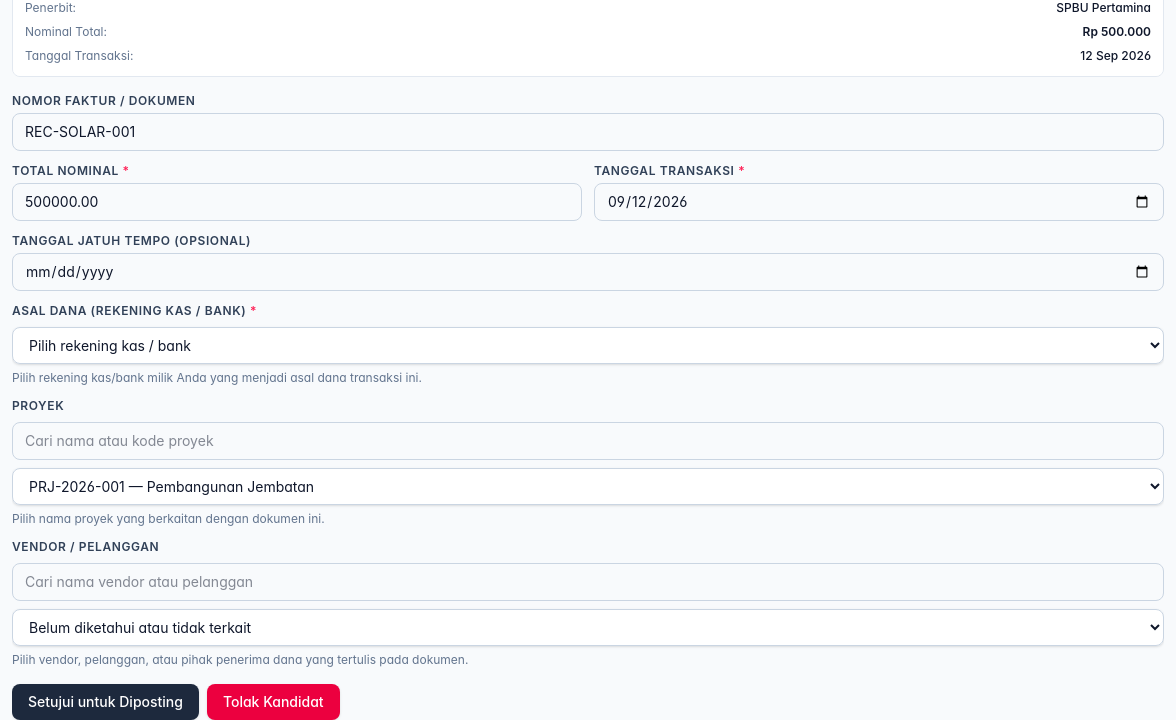
Test: Document Review Approval Workflow & Invariants › DocumentReviewForm Component Interactions › blocks approval and displays friendly error when payment account is missing on DIRECT_PURCHASE
(page scrolled)
Click the button "Setujui untuk Diposting". click: click(105, 702)
box: x1=12 y1=684 x2=199 y2=719
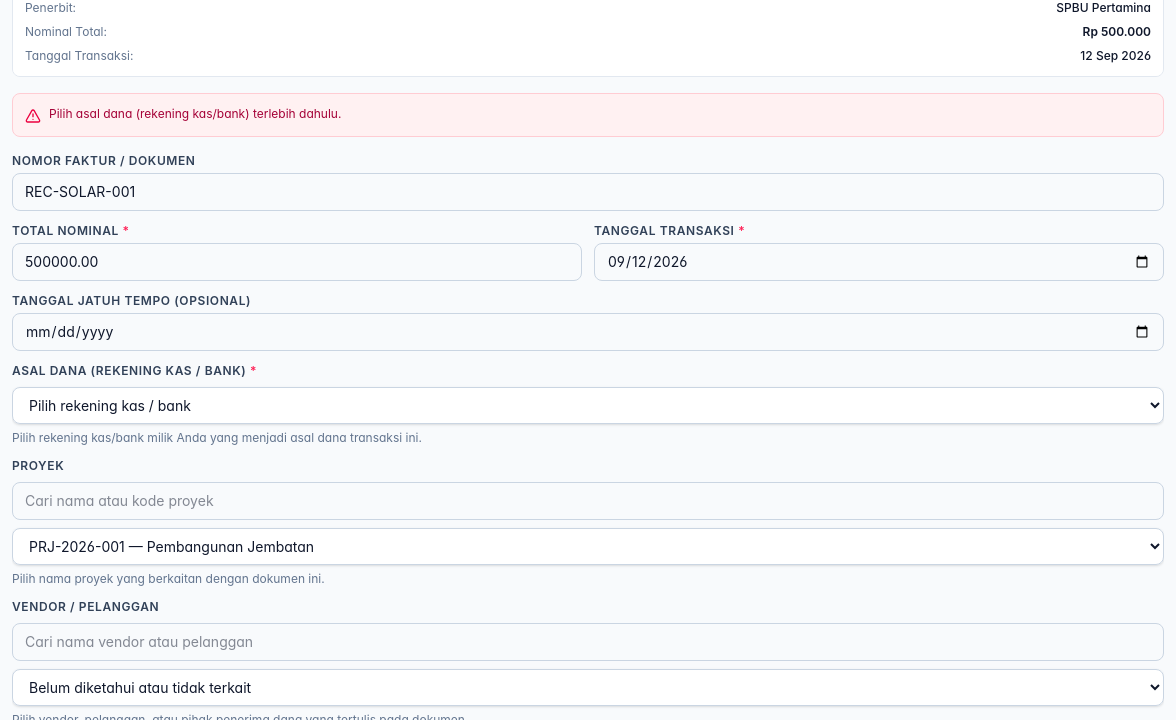
Check: the text "Pilih asal dana (rekening kas/bank) terlebih dahulu." is shown, box x1=49 y1=106 x2=341 y2=122
